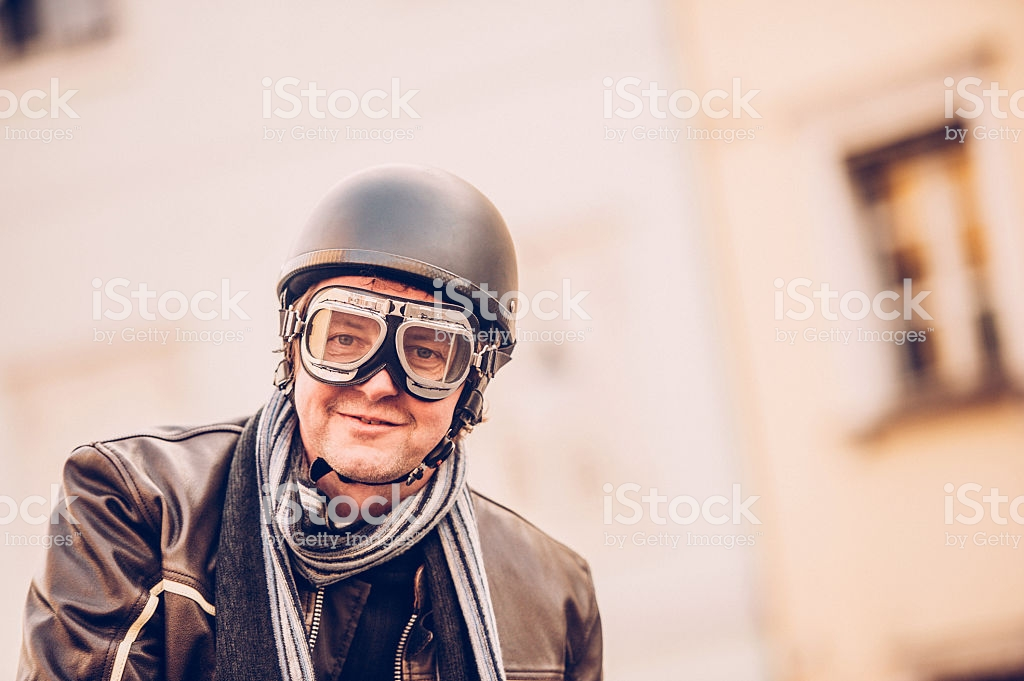helmet: (261, 157, 549, 379)
